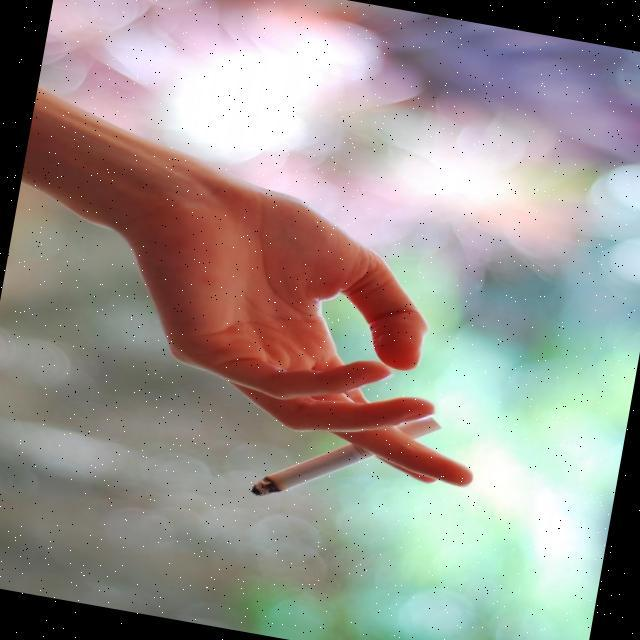cigarette: (240, 388, 446, 535)
